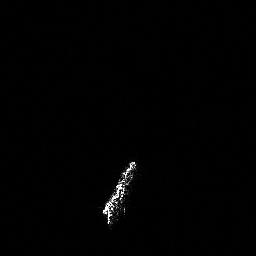ship: (99, 158, 139, 228)
